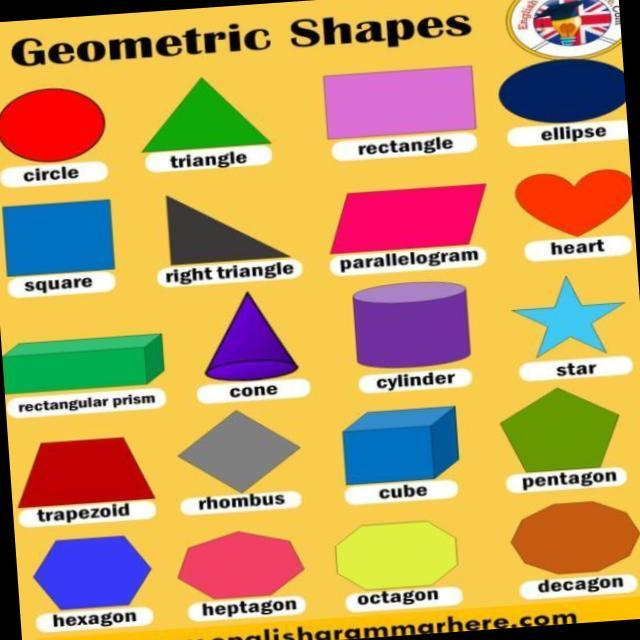circle: (0, 84, 121, 171)
square: (0, 191, 137, 301)
triangle: (135, 69, 284, 183), (152, 193, 299, 294)
